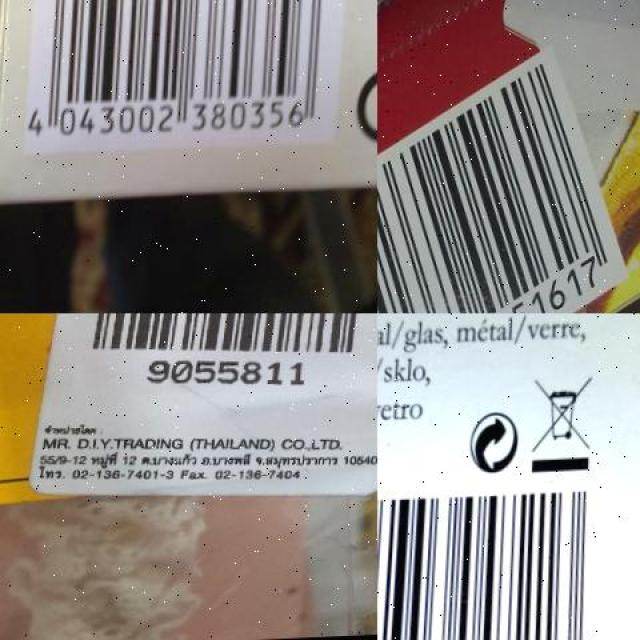Barcode: (377, 43, 640, 313), (28, 0, 345, 160), (378, 476, 638, 640), (83, 314, 377, 398)
